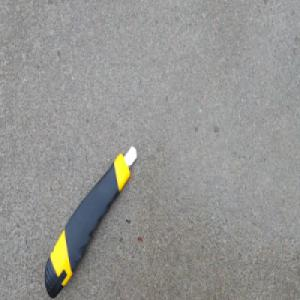Cutter: (43, 142, 138, 290)
